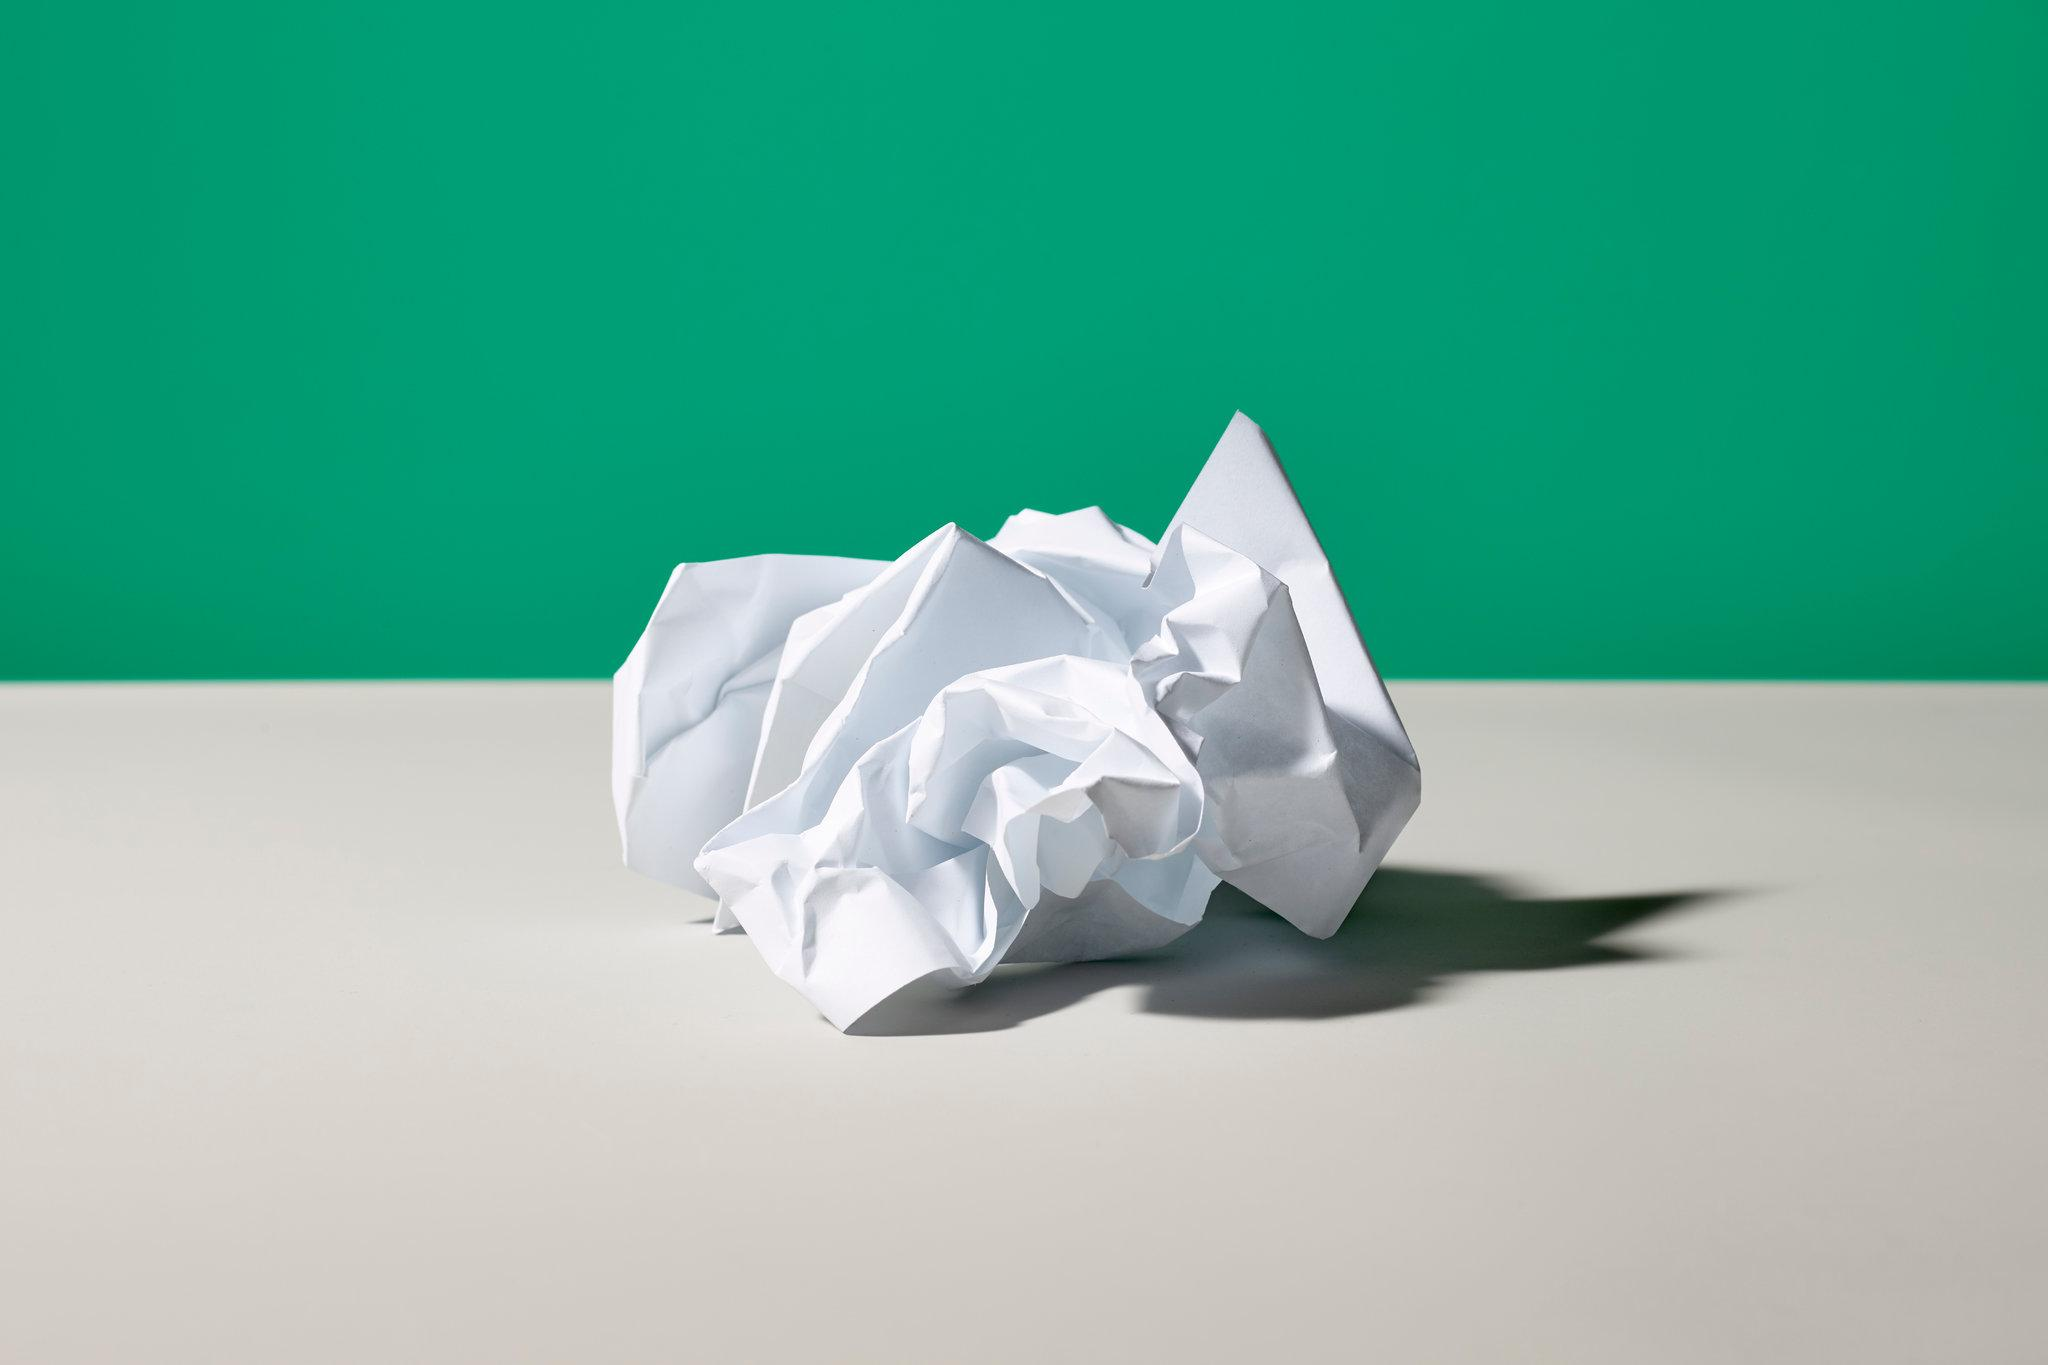paper: (614, 414, 1419, 1028)
